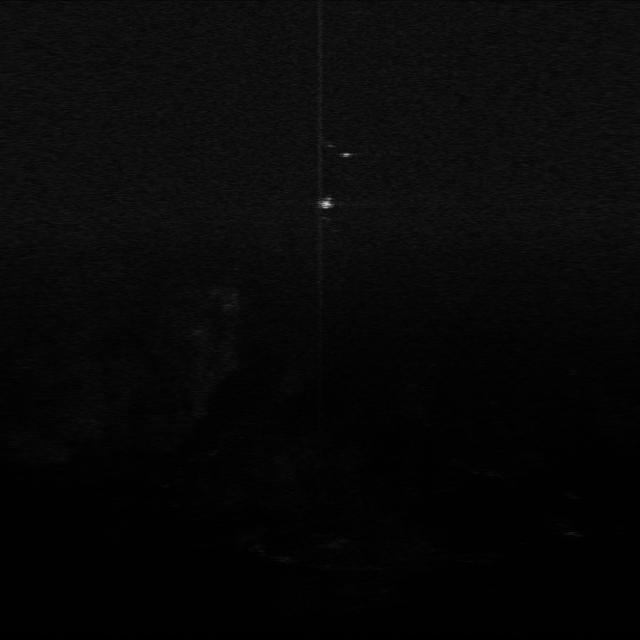rov: (314, 193, 338, 212)
